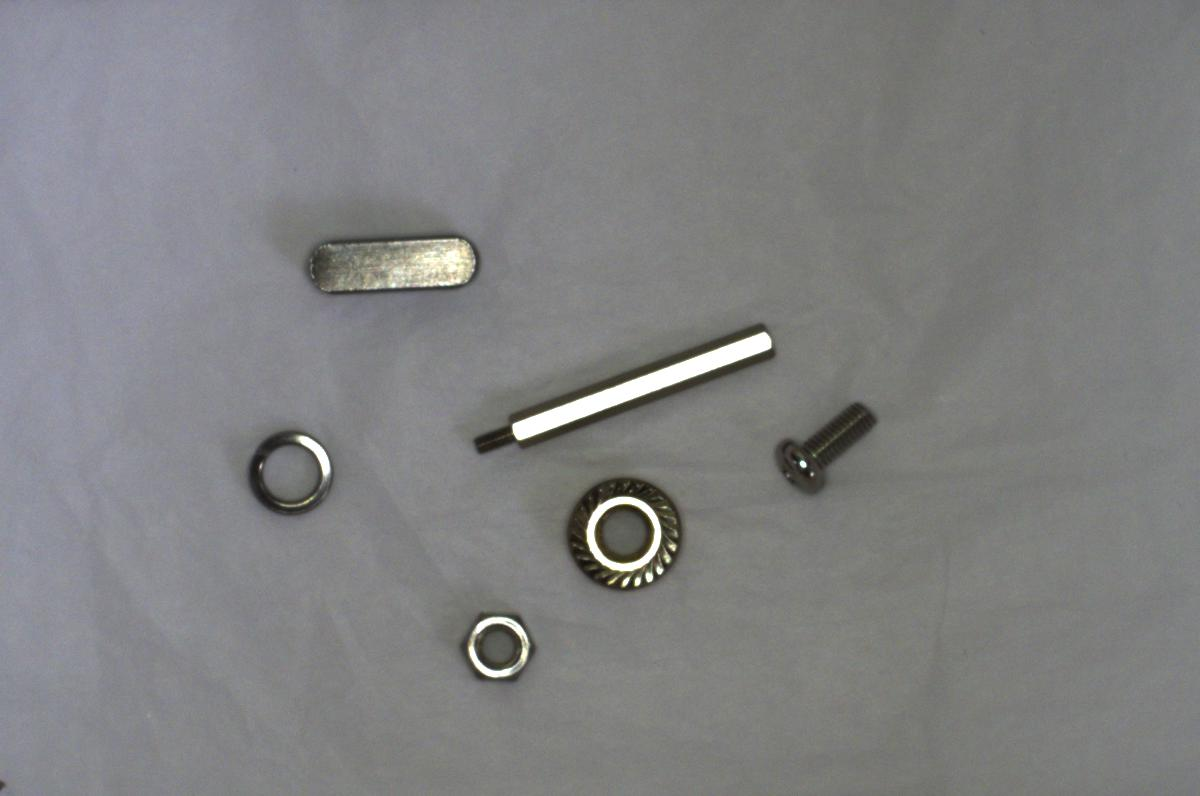Flange nut: (559, 470, 686, 595)
Hexagon nut: (451, 603, 542, 683)
Hexagonal steel column: (461, 322, 784, 456)
Keybar: (294, 226, 495, 302)
Round head screw: (771, 394, 877, 501)
Spring washer: (238, 421, 347, 522)
